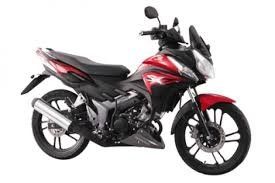motor: (21, 24, 251, 175)
